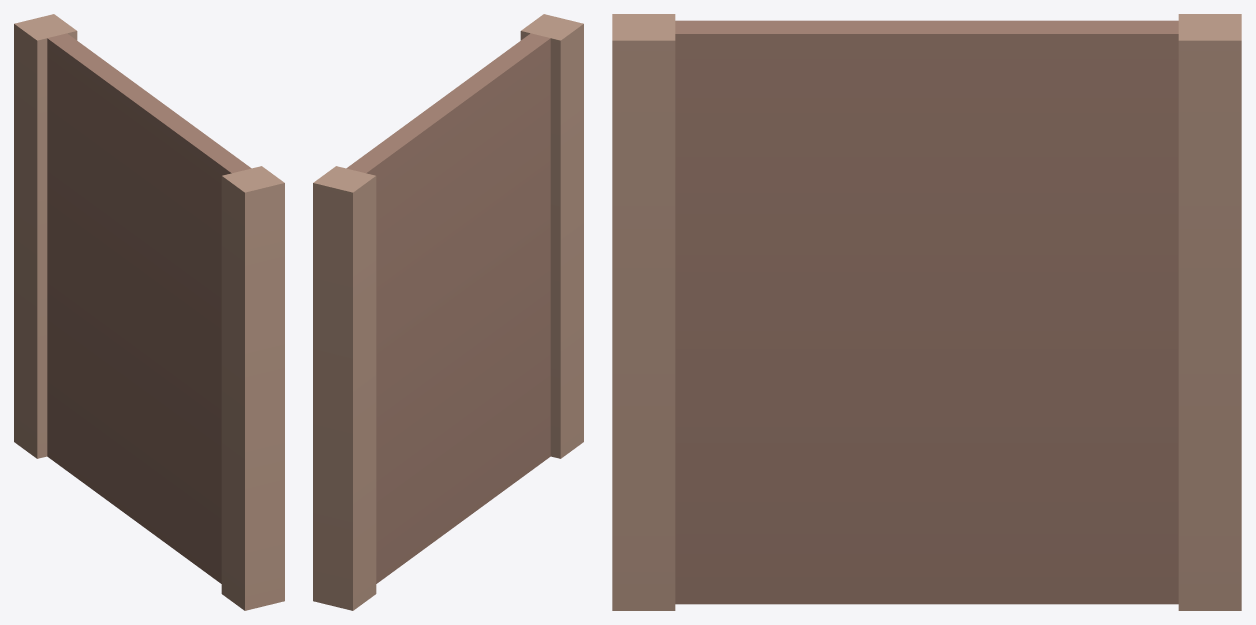
Rendered from wall-wood.glb.
3 renders of one model, left to right at view 1: azimuth 30°, elevation 25°; view 2: azimuth 150°, elevation 25°; view 3: azimuth 270°, elevation 25°, orthographic. The views are drawn at different scales.
Visible parts, largest first — view 1: wall-wood; view 2: wall-wood; view 3: wall-wood.
Part boxes in pixels (<box>): wall-wood: <box>14,14,284,610</box>; wall-wood: <box>313,14,583,610</box>; wall-wood: <box>612,14,1241,610</box>.
Size of the model in its own units: 0.1 by 1 by 1.
